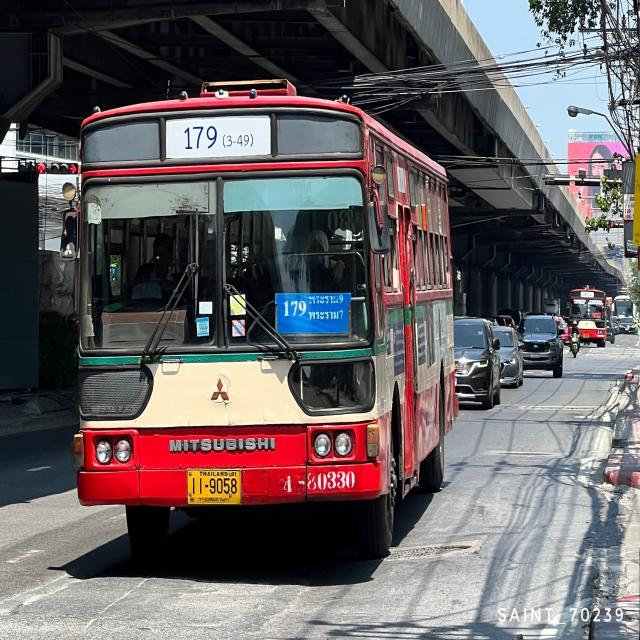BMTA-bus: (55, 65, 466, 581), (567, 279, 608, 352)
Bus-Line-Number: (167, 117, 274, 157)
Destination-Sign-Normal: (277, 294, 349, 334)
